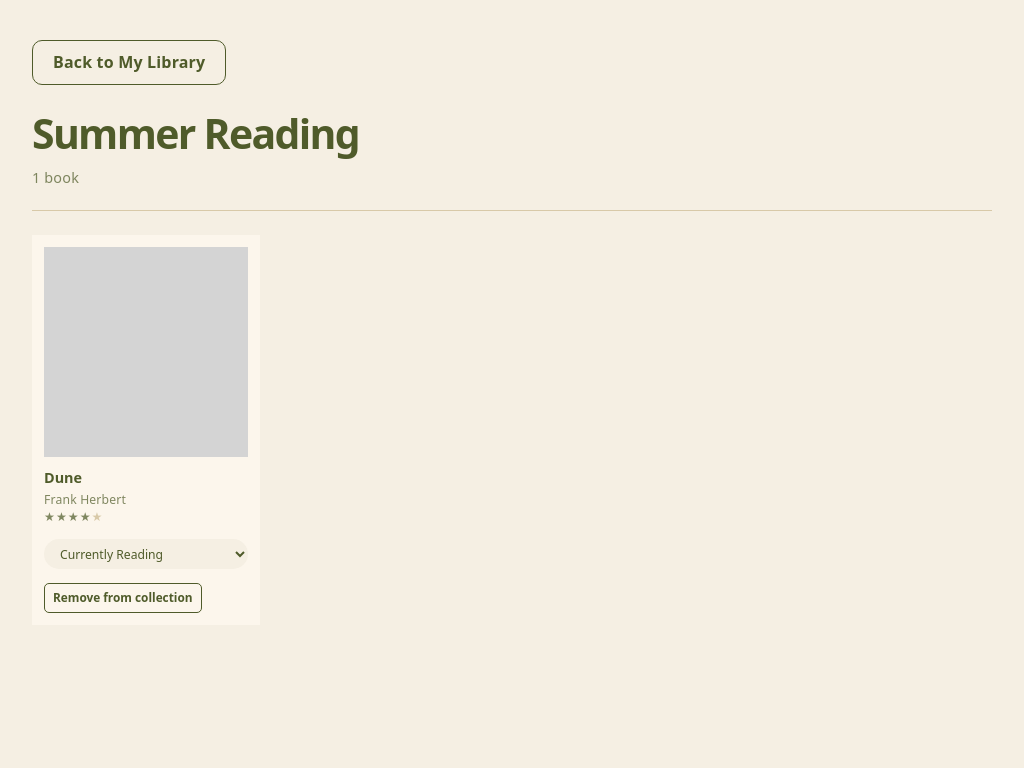
Test case: CollectionDetailsPage › keeps the collection after its last membership is removed
Expected: the button "Dune" is shown, [44,468,82,487]
Click the button with aria-label "Remove Dune from collection": (123, 598) [44,583,202,612]
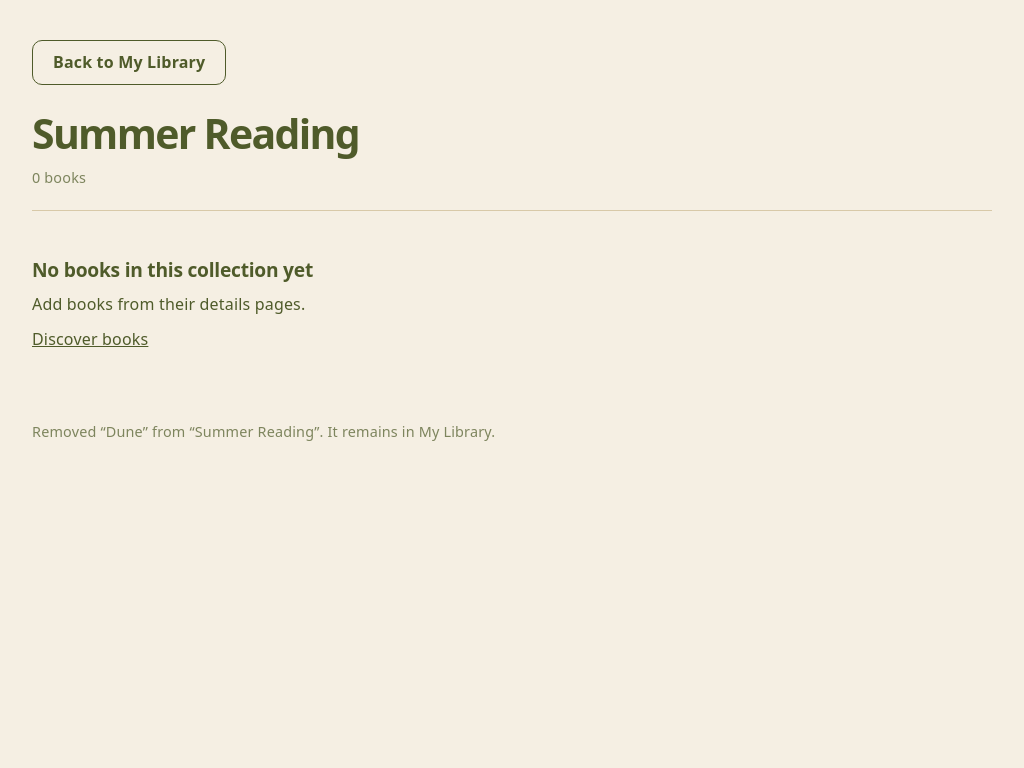
Expected: the heading "Summer Reading" is shown, [32,105,359,161]
Expected: the heading "No books in this collection yet" is shown, [32,256,313,282]
Expected: the text "0 books" is shown, [32,168,86,187]
